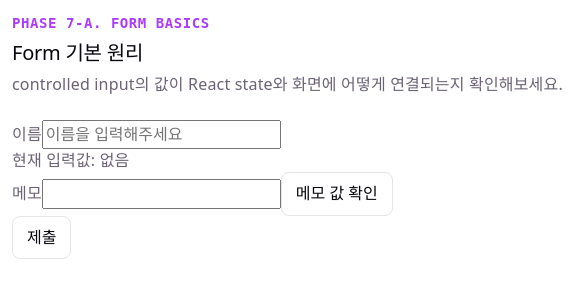
Scenario: Phase 7-D Form 기본 원리 › 오류 발생 후 이름을 입력하면 오류 상태를 해제한다
The image size is (579, 299).
Click the button "제출". click: (42, 237)
box: [12,216,72,259]
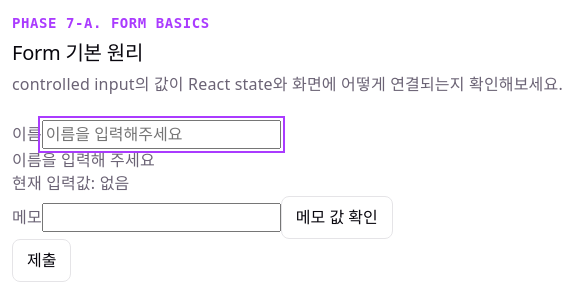
Check: the text "이름을 입력해 주세요" is shown, box [12,149,155,171]
Type "Kim" into the field labelled "이름". click: (161, 135)
box: [42,120,281,149]
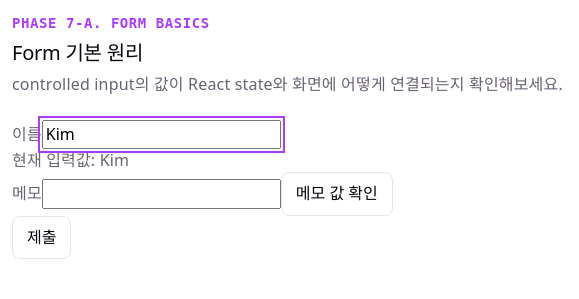
Check: the text "이름을 입력해 주세요" is gone
